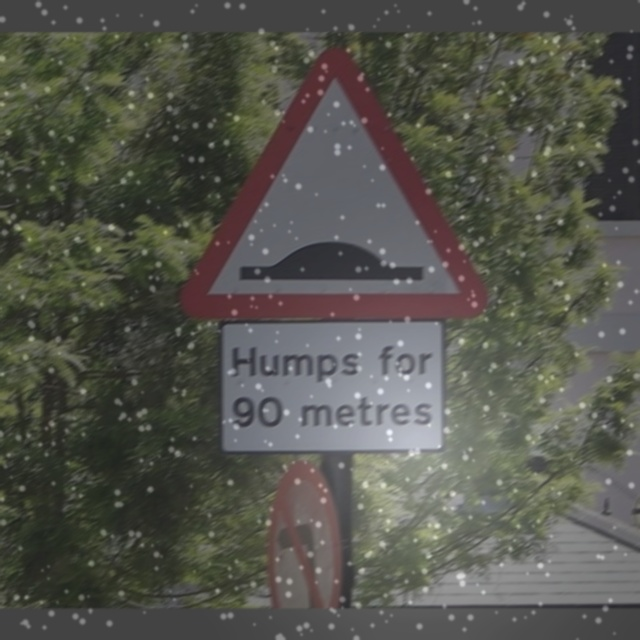Hump_or_Rough_Road: (192, 52, 470, 315)
